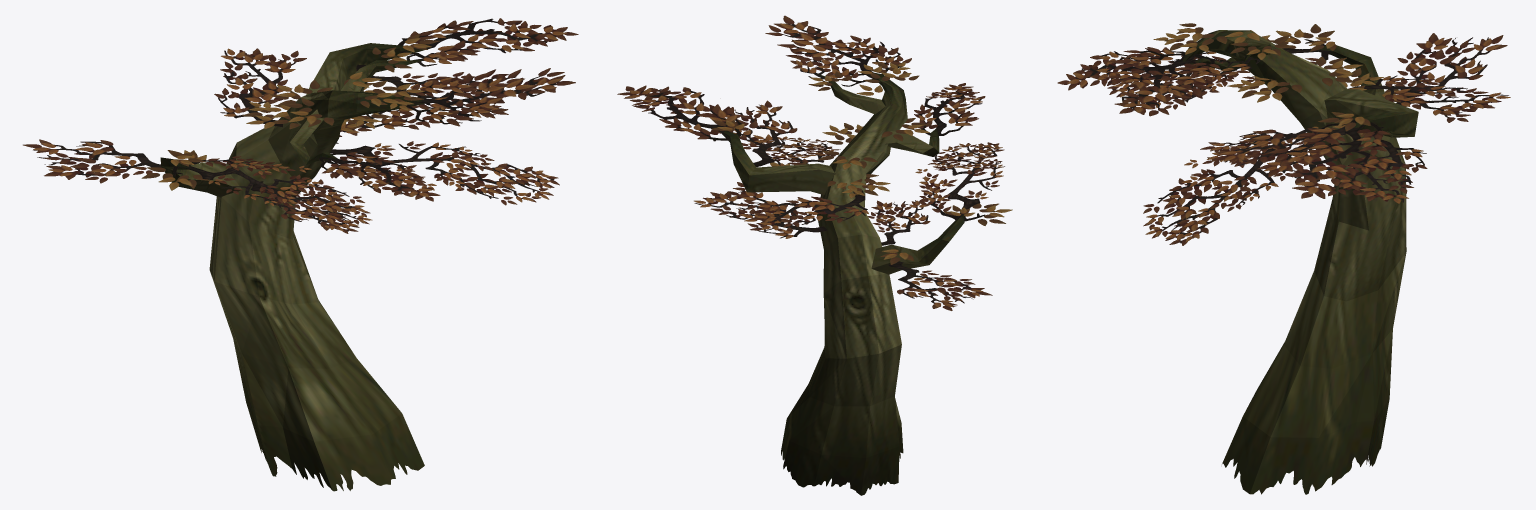
Rendered from ShuA_04.fbx.
3 views of the same model, side by side, from view 1: azimuth 30°, elevation 25°; view 2: azimuth 150°, elevation 25°; view 3: azimuth 270°, elevation 25° (orthographic). The views are drawn at different scales.
Visible parts, largest first — view 1: ShuA_04a, ShuA_04; view 2: ShuA_04a, ShuA_04; view 3: ShuA_04a, ShuA_04.
Boxes of the visible parts, x1,y1,x2,y2 form: ShuA_04a: [141, 34, 439, 491]; ShuA_04: [23, 18, 578, 233]; ShuA_04a: [711, 61, 1012, 495]; ShuA_04: [617, 15, 1004, 310]; ShuA_04a: [1153, 23, 1418, 494]; ShuA_04: [1057, 33, 1510, 245].
Size of the model in its own units: 871 by 713 by 704.
